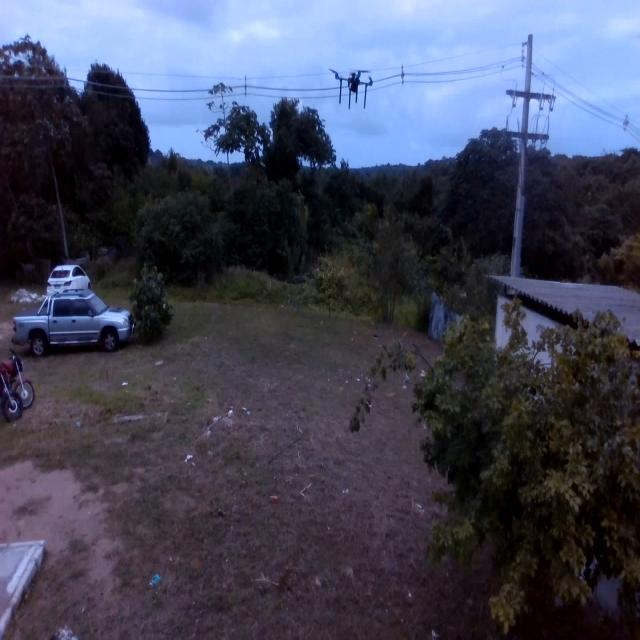-uav-: (318, 54, 379, 118)
